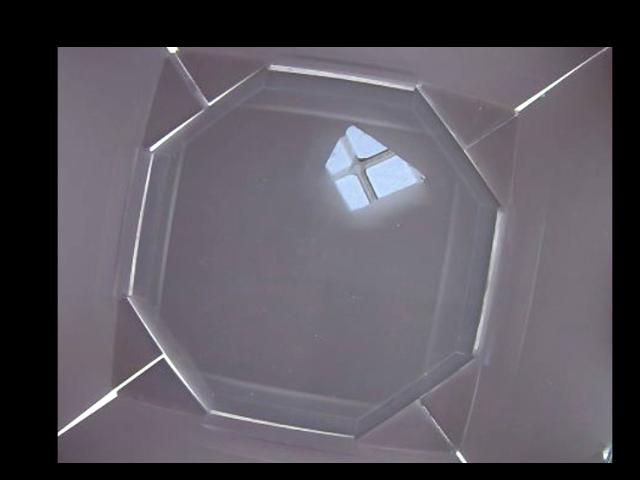China: (327, 124, 423, 215)
